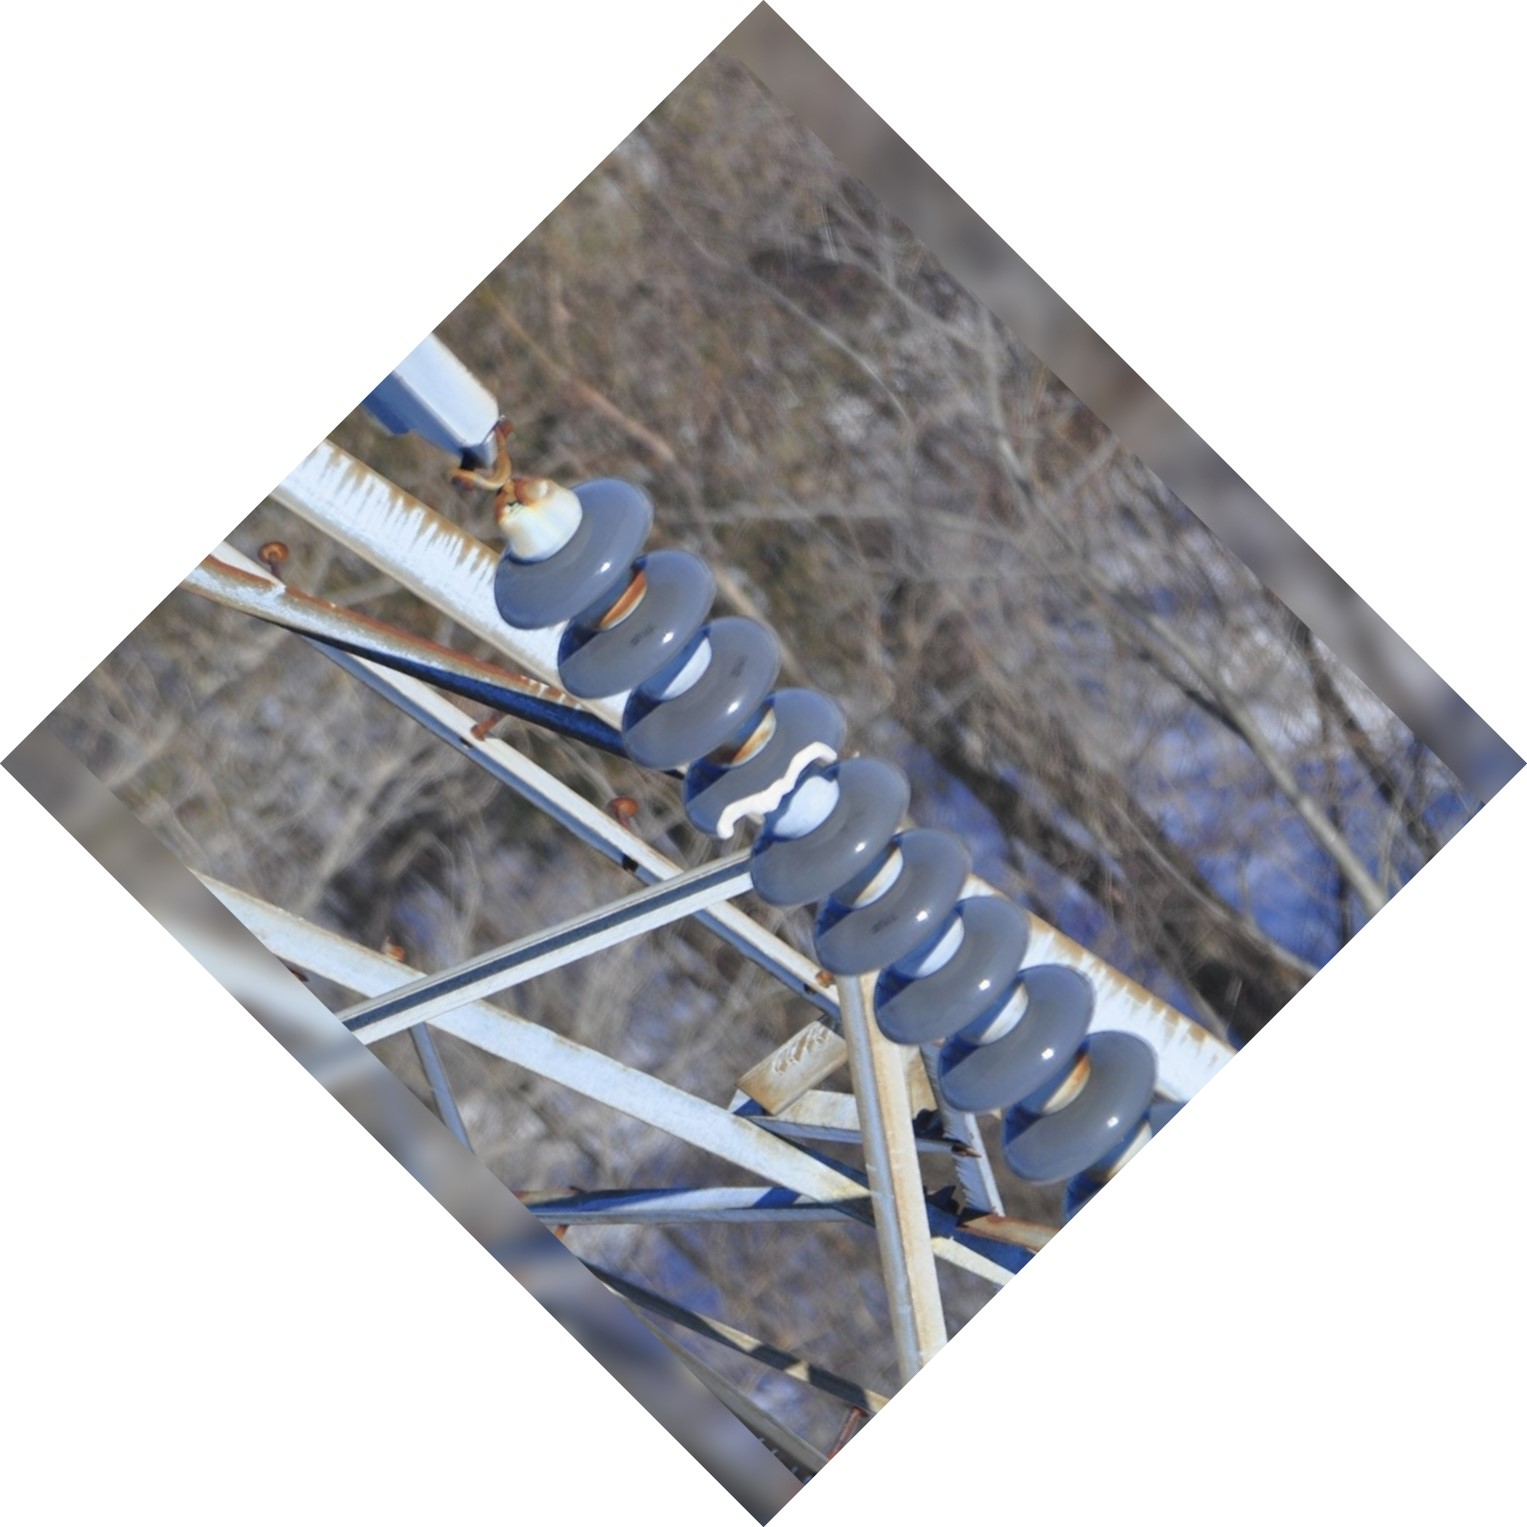insulator breakage: (689, 687, 861, 840)
